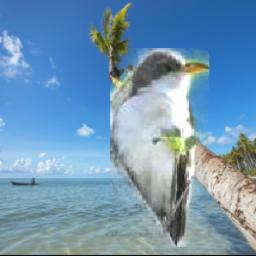Cuckoo: (111, 48, 211, 247)
